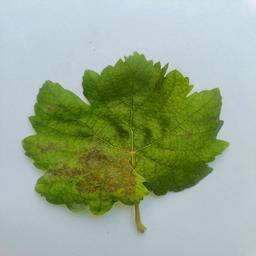Powdery-Mildew: (75, 152, 137, 199), (41, 164, 68, 190), (33, 137, 70, 154), (96, 124, 110, 138), (165, 143, 179, 157), (193, 96, 207, 109), (183, 128, 197, 141)
